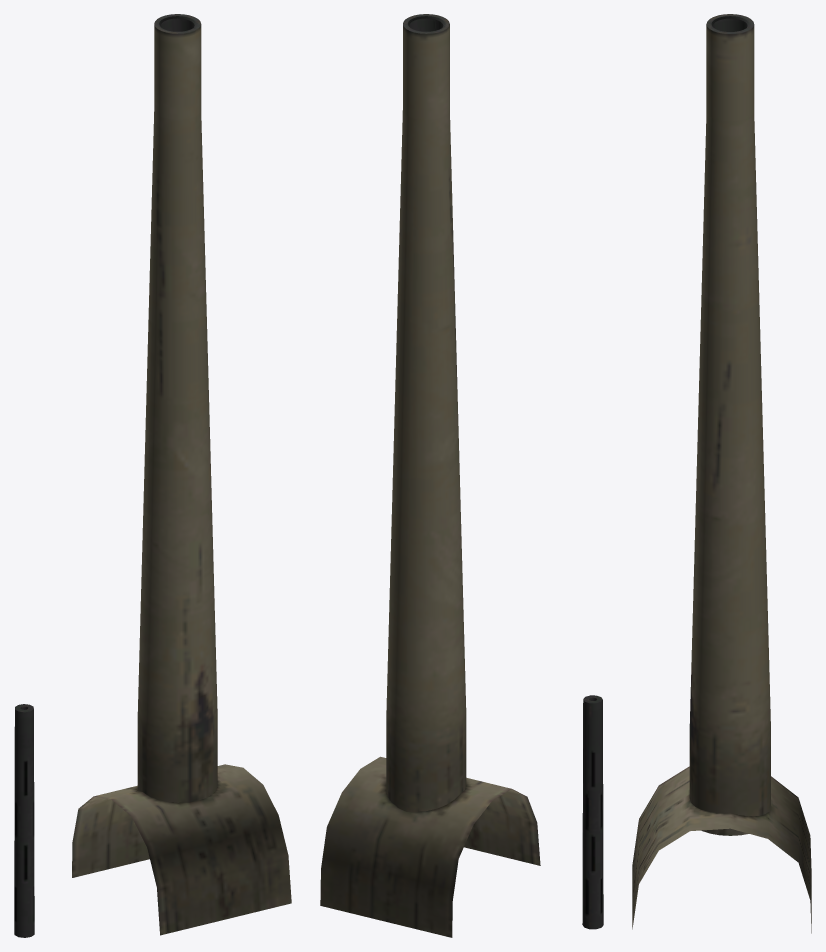
The model's file is Gun_02.glb.
3 renders of one model, left to right at view 1: azimuth 30°, elevation 25°; view 2: azimuth 150°, elevation 25°; view 3: azimuth 270°, elevation 25°, orthographic.
Parts seen in each view (by area): view 1: set_0_group_0; view 2: set_0_group_0; view 3: set_0_group_0.
Boxes of the visible parts, x1=… form: set_0_group_0: x1=14, y1=14, x2=291, y2=937; set_0_group_0: x1=320, y1=14, x2=603, y2=937; set_0_group_0: x1=632, y1=14, x2=811, y2=933.
Size of the model in its own units: 0.6021 by 2.13 by 0.3921.
Materials: 1 (1 with a texture image).
